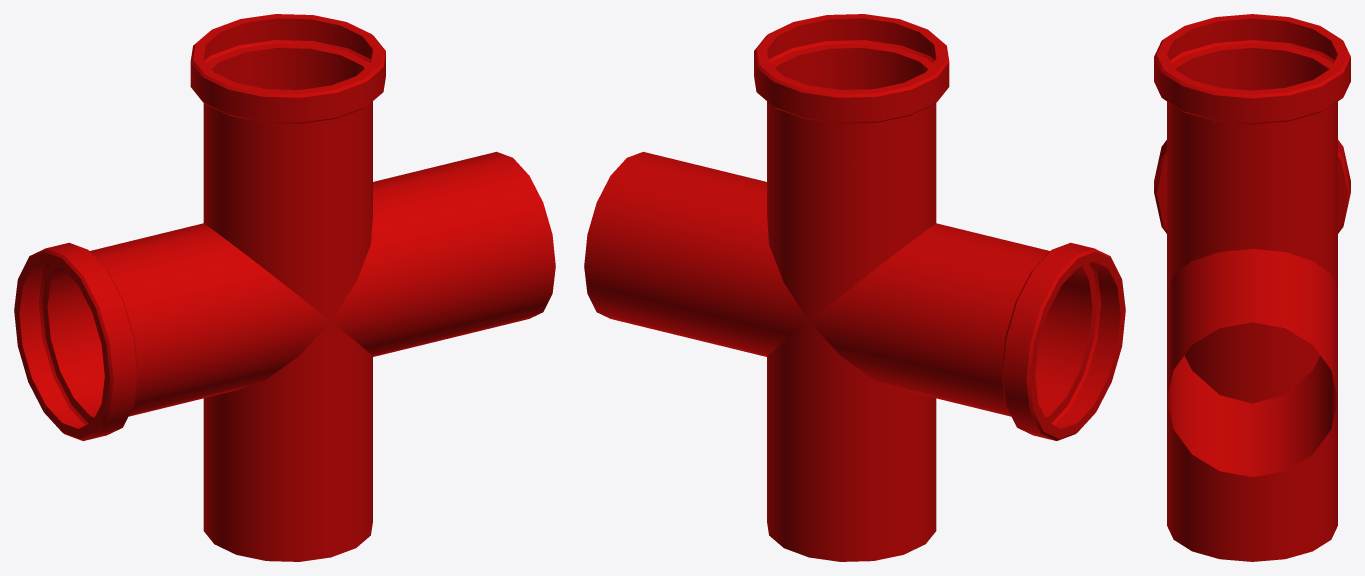
Rendered from SM_Pipe_Four.fbx.
The picture shows the model from 3 angles, left to right: view 1: azimuth 30°, elevation 25°; view 2: azimuth 150°, elevation 25°; view 3: azimuth 270°, elevation 25°; orthographic projection.
Visible parts, largest first — view 1: Four; view 2: Four; view 3: Four.
Boxes of the visible parts, x1,y1,x2,y2 form: Four: (14,14,555,561); Four: (584,14,1125,561); Four: (1154,14,1350,561).
Size of the model in its own units: 80.47 by 80.47 by 30.47.
